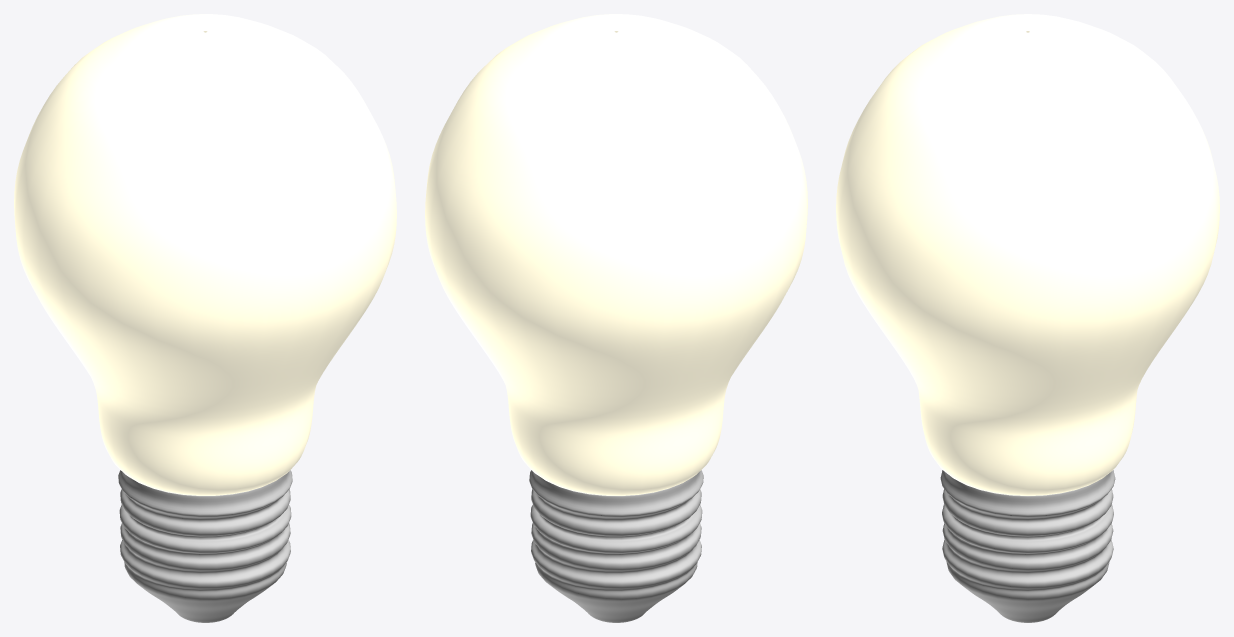
The model's file is lightbulb.gltf.
3 views of the same model, side by side, from view 1: azimuth 30°, elevation 25°; view 2: azimuth 150°, elevation 25°; view 3: azimuth 270°, elevation 25° (orthographic).
Parts seen in each view (by area): view 1: revolvedSurface9, revolvedSurface10; view 2: revolvedSurface9, revolvedSurface10; view 3: revolvedSurface9, revolvedSurface10.
Boxes of the visible parts, x1,y1,x2,y2 form: revolvedSurface9: (14, 14, 396, 495); revolvedSurface10: (118, 470, 292, 622); revolvedSurface9: (425, 14, 807, 495); revolvedSurface10: (529, 470, 703, 622); revolvedSurface9: (836, 14, 1219, 495); revolvedSurface10: (940, 470, 1115, 622).
Size of the model in its own units: 16.94 by 28.34 by 16.94.
